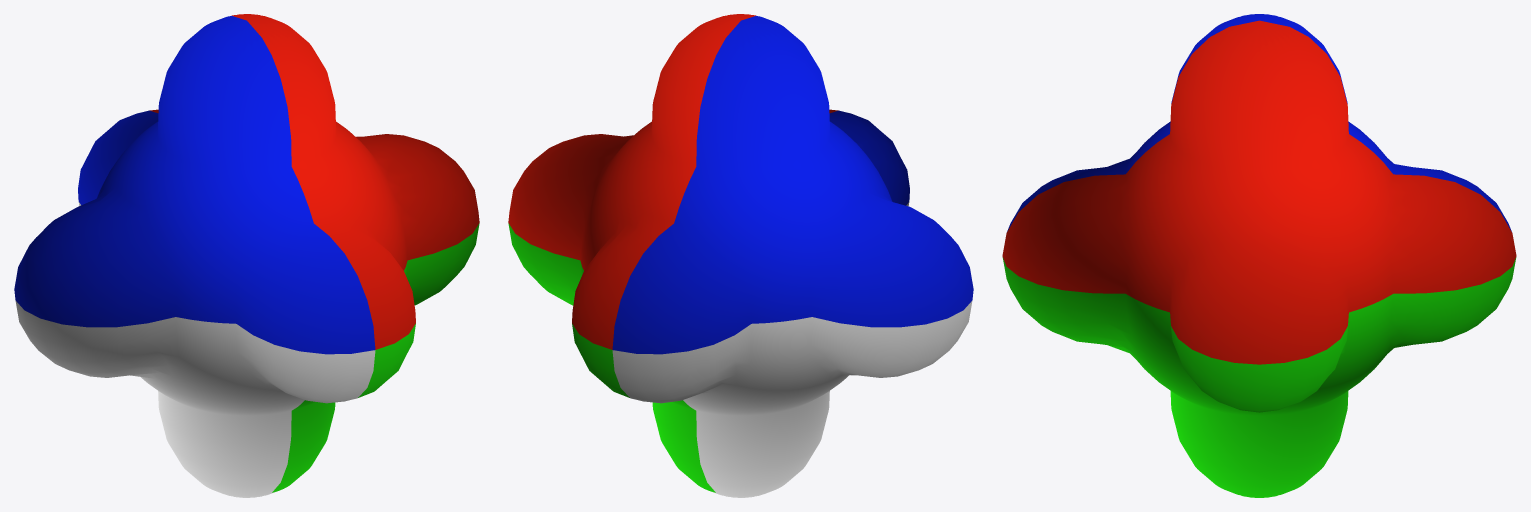
The model's file is MultiplePrimitivesMorphTargets.glb.
3 views of the same model, side by side, from view 1: azimuth 30°, elevation 25°; view 2: azimuth 150°, elevation 25°; view 3: azimuth 270°, elevation 25° (orthographic).
Visible parts, largest first — view 1: Sphere; view 2: Sphere; view 3: Sphere.
Part boxes in pixels (<box>): Sphere: <box>14,14,479,497</box>; Sphere: <box>508,14,973,497</box>; Sphere: <box>1002,14,1516,497</box>.
Size of the model in its own units: 3.15 by 3.19 by 3.15.
